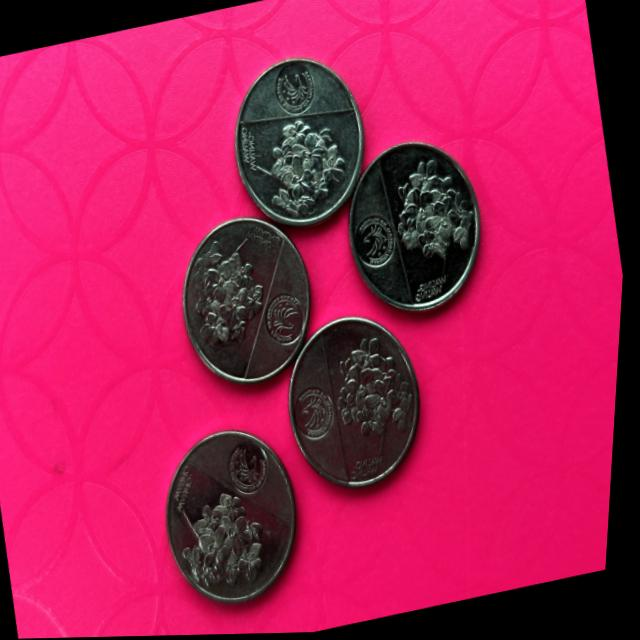1_New_Back: (180, 484, 281, 604), (334, 323, 427, 453), (394, 151, 486, 272), (190, 235, 281, 357), (263, 113, 359, 221)
